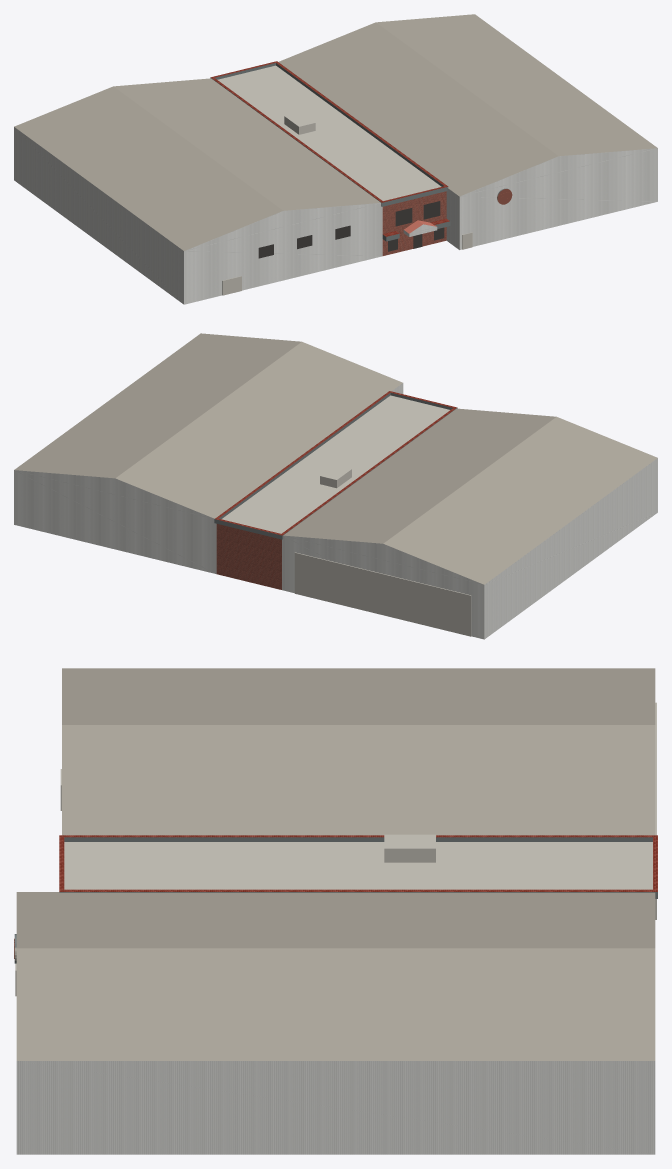
File: cyxd_hangar40.gltf
The picture shows the model from 3 angles, top to bottom: view 1: azimuth 30°, elevation 25°; view 2: azimuth 150°, elevation 25°; view 3: azimuth 270°, elevation 25°; orthographic projection. The views are drawn at different scales.
Parts seen in each view (by area): view 1: cyxd_hangar40; view 2: cyxd_hangar40; view 3: cyxd_hangar40.
Boxes of the visible parts, x1,y1,x2,y2 form: cyxd_hangar40: (14, 14, 657, 304); cyxd_hangar40: (14, 333, 657, 639); cyxd_hangar40: (14, 668, 657, 1154).
Size of the model in its own units: 72 by 10.4 by 49.91.
